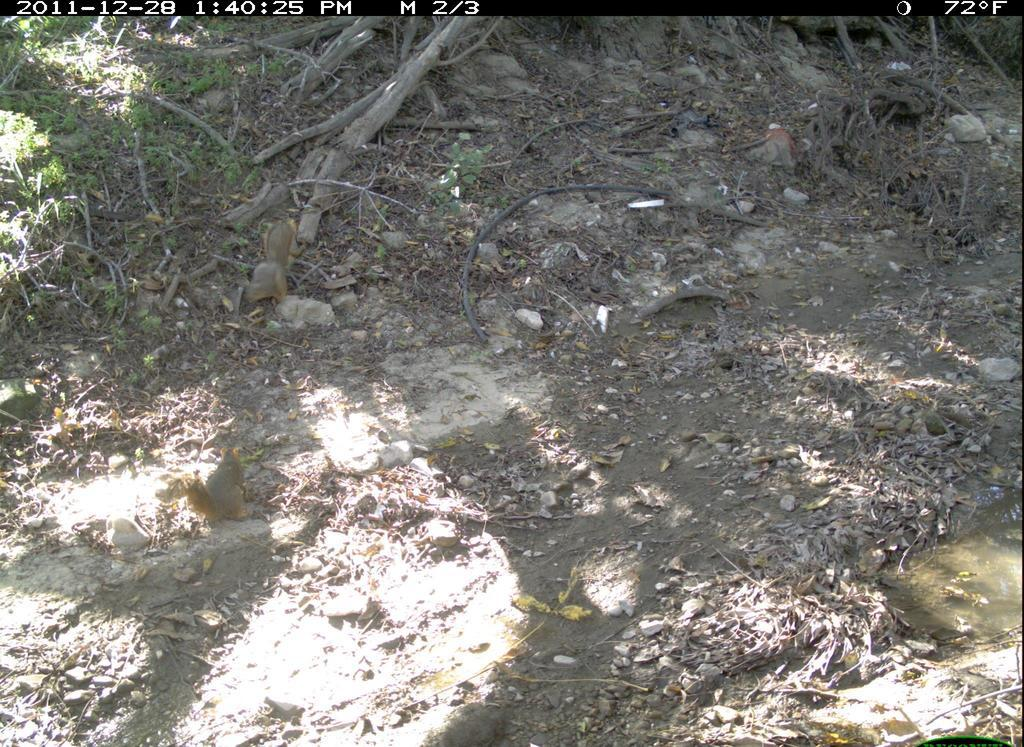squirrel: (168, 445, 281, 524), (237, 214, 306, 313)
